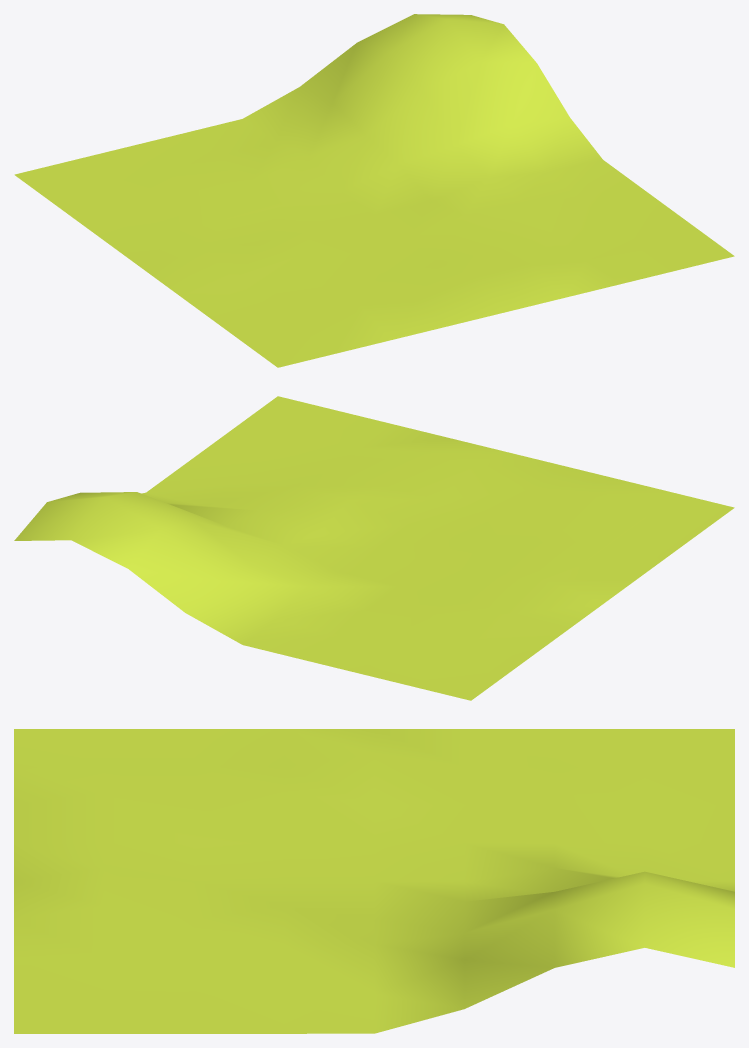
Rendered from grass 1.fbx.
3 views of the same model, one above another, from view 1: azimuth 30°, elevation 25°; view 2: azimuth 150°, elevation 25°; view 3: azimuth 270°, elevation 25° (orthographic). The views are drawn at different scales.
Visible parts, largest first — view 1: Plane; view 2: Plane; view 3: Plane.
Part boxes in pixels (x1,y1,x2,y2): Plane: (14, 14, 734, 367); Plane: (14, 396, 734, 700); Plane: (14, 729, 734, 1033).
Size of the model in its own units: 15000 by 2567 by 15000.
